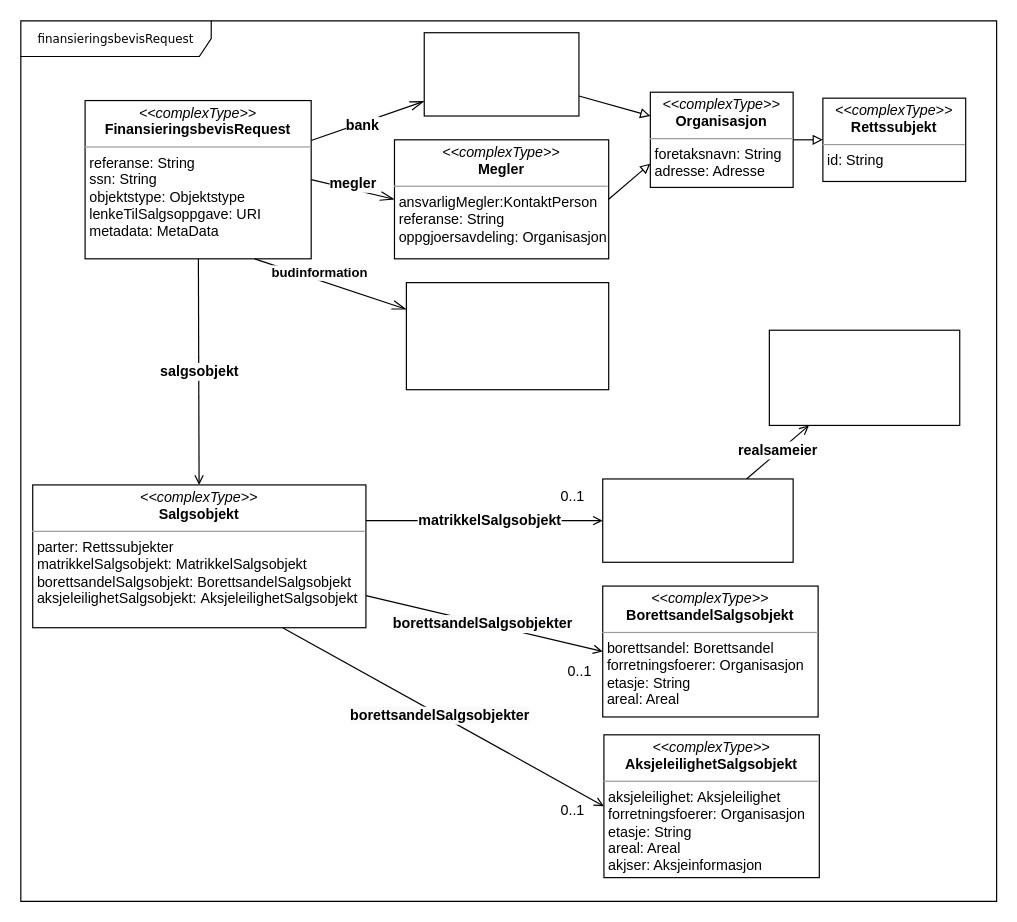
The diagram is 1017 pixels wide and 922 high, and some of its shapes have lost their labels. The centre of each missing label's shape, as x and y in pixels:
<<complexType>> Budinformation budbelop: Double akseptfrist: Date: [507,335]
<<complexType>> MatrikkelSalgsobjekt matrikkel: Matrikkel: [697,520]
<<complexType>> Mottaker referanse: String: [501,74]
<<complexType>> Realsameie matrikkel: Matrikkel eierBroek :Broek: [864,377]
